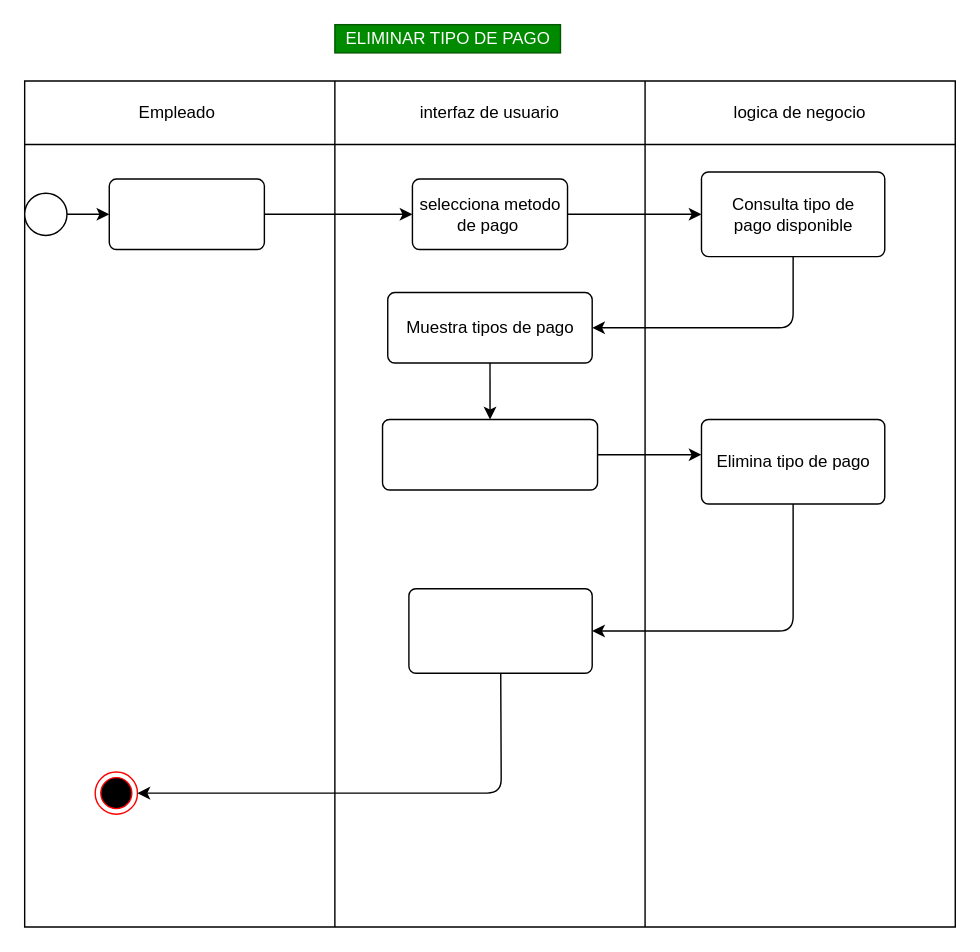
The diagram is 980 pixels wide and 952 high, and some of its shapes have lost their labels. The centre of each missing label's shape, as x and y in pixels:
ingresa a tipo de pago: pixel 186 214
Muestra tipos de pago restantes: pixel 499 630
selecciona y confirma eliminar tipos de pago: pixel 489 454
